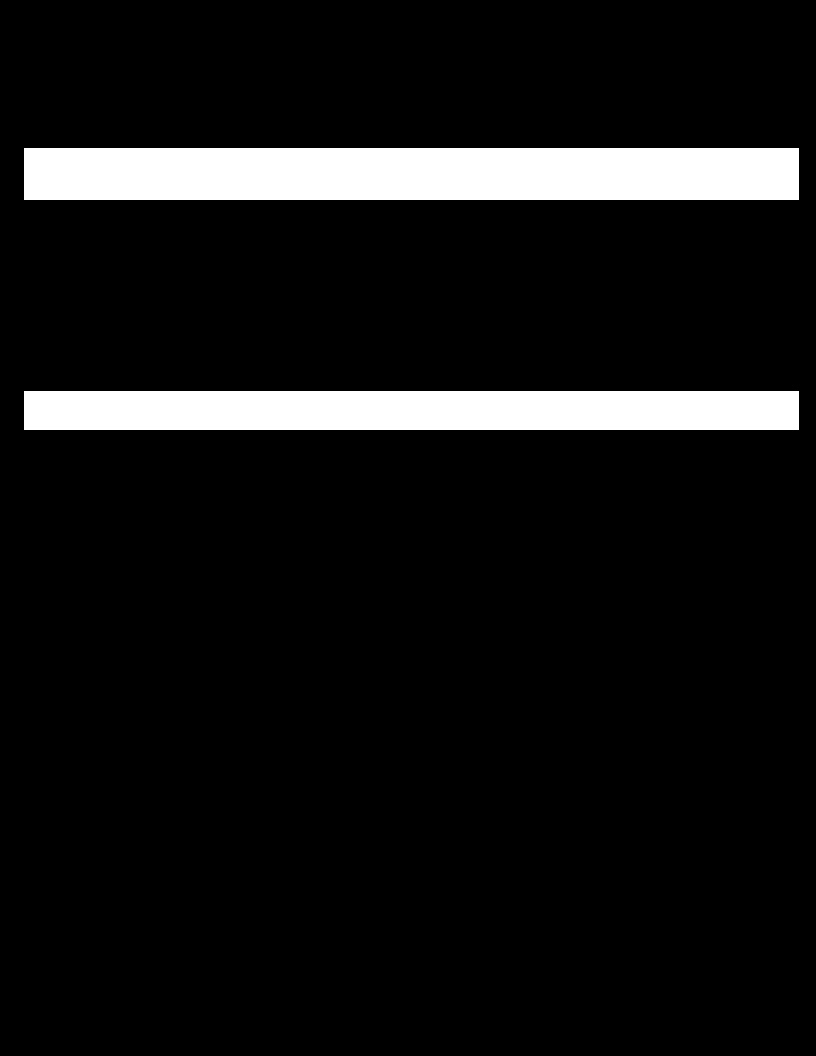table: (24, 148, 798, 199), (24, 391, 798, 429)
